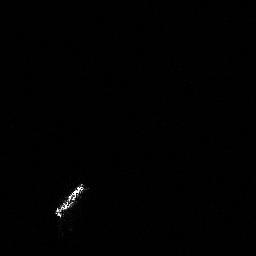ship: (50, 178, 90, 221)
